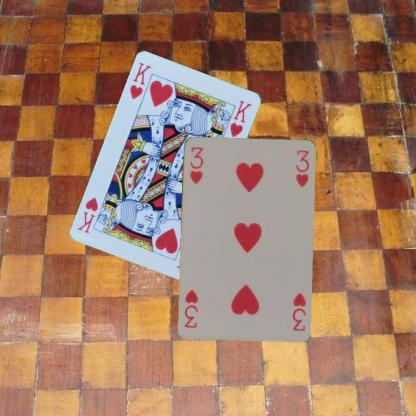3h: (289, 290, 308, 332), (186, 144, 204, 185)
Kh: (127, 60, 153, 101)
